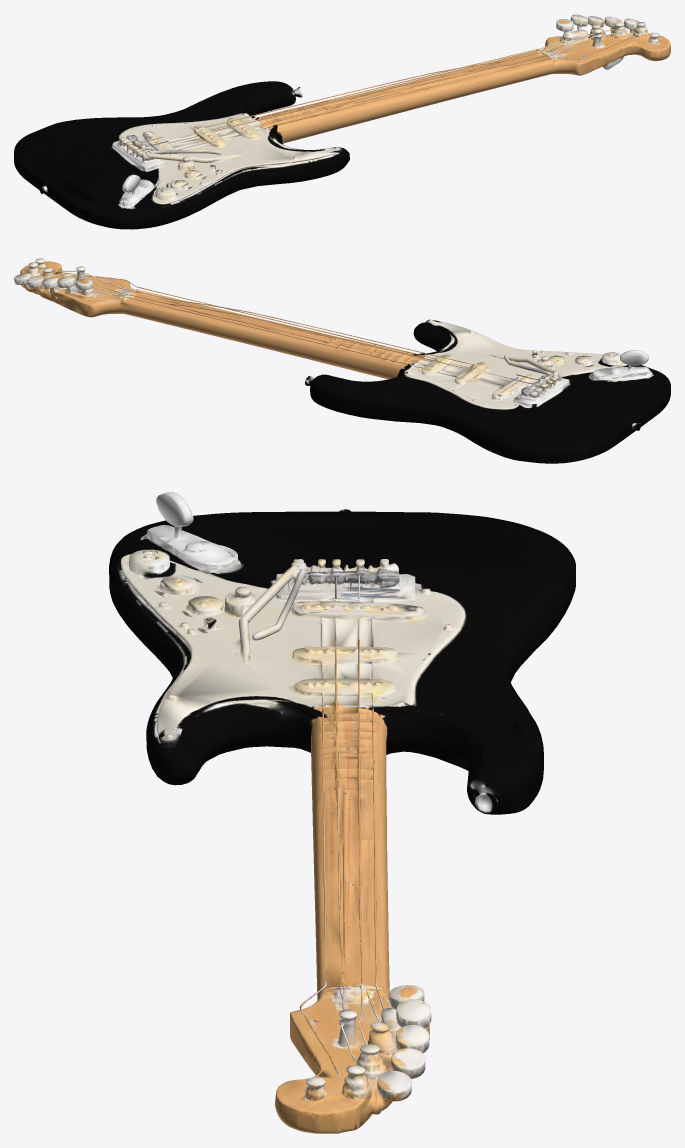
File: guitar.glb
3 views of the same model, one above another, from view 1: azimuth 30°, elevation 25°; view 2: azimuth 150°, elevation 25°; view 3: azimuth 270°, elevation 25° (orthographic). The views are drawn at different scales.
Visible parts, largest first — view 1: node_0; view 2: node_0; view 3: node_0.
Part boxes in pixels (bbox=[...]): node_0: bbox=[14, 14, 670, 229]; node_0: bbox=[14, 258, 670, 463]; node_0: bbox=[109, 492, 575, 1133].
Size of the model in its own units: 1.2 by 0.0889 by 0.3906.
Materials: 1 (1 with a texture image).
